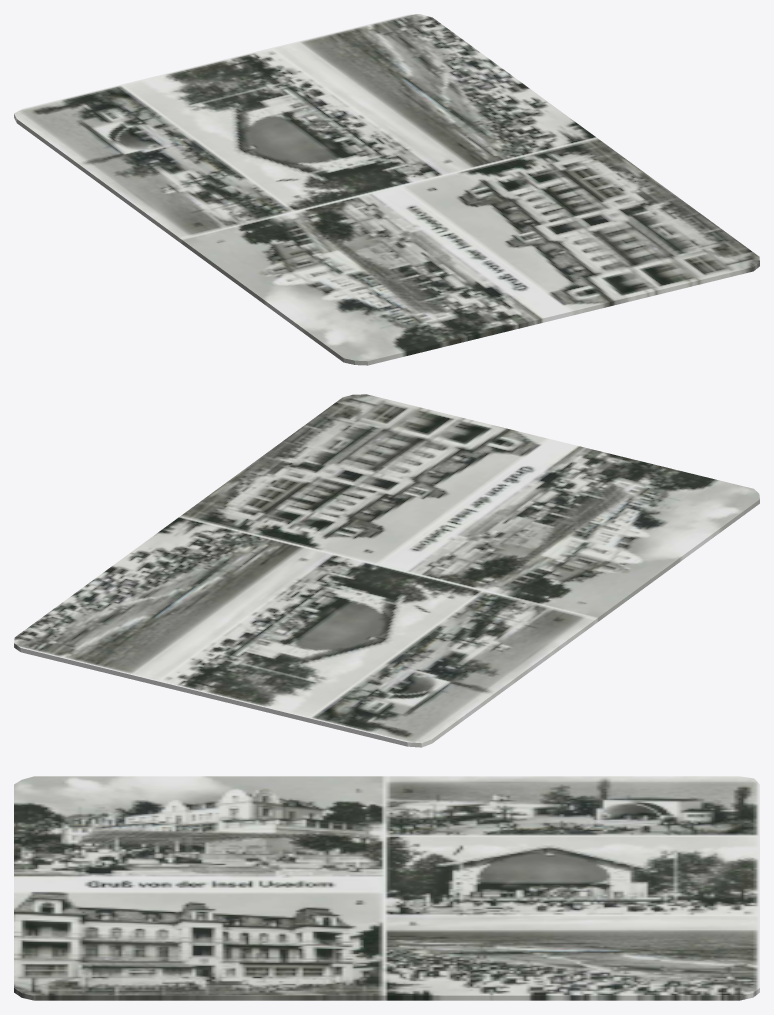
File: obj_Postcard_004.obj
The picture shows the model from 3 angles, top to bottom: view 1: azimuth 30°, elevation 25°; view 2: azimuth 150°, elevation 25°; view 3: azimuth 270°, elevation 25°; orthographic projection. The views are drawn at different scales.
Parts seen in each view (by area): view 1: obj_Postcard.004; view 2: obj_Postcard.004; view 3: obj_Postcard.004.
Part boxes in pixels (x1,y1,x2,y2): obj_Postcard.004: (14, 14, 759, 365); obj_Postcard.004: (14, 394, 759, 747); obj_Postcard.004: (14, 776, 759, 1000).
Bounding box in the file's own units: 0.1349 × 0.00135 × 0.194.
